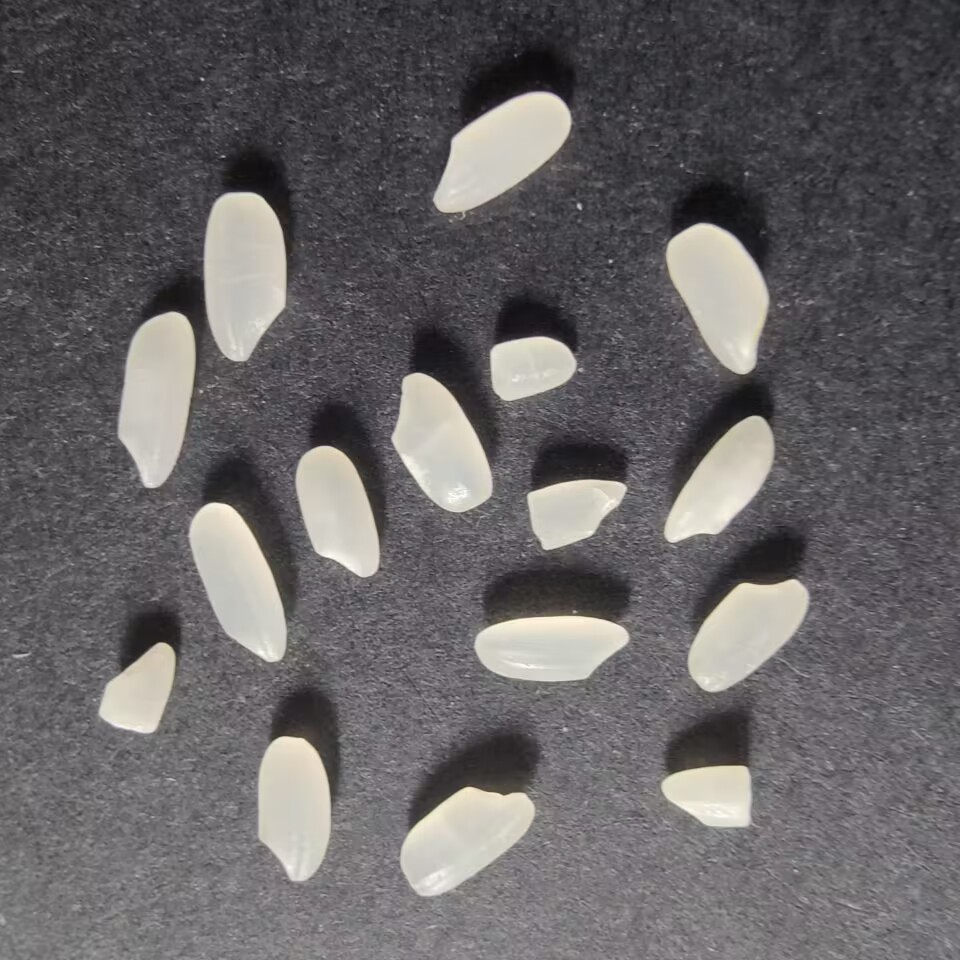broken: (519, 473, 631, 558), (95, 635, 178, 738), (651, 759, 754, 834), (480, 333, 579, 406)
rice: (180, 497, 293, 674), (426, 86, 577, 218), (393, 781, 544, 905), (659, 217, 775, 376), (196, 184, 294, 366), (658, 406, 782, 545), (680, 572, 816, 698), (389, 368, 499, 519), (113, 304, 198, 489), (289, 439, 384, 581), (246, 734, 334, 886), (463, 611, 633, 689)
